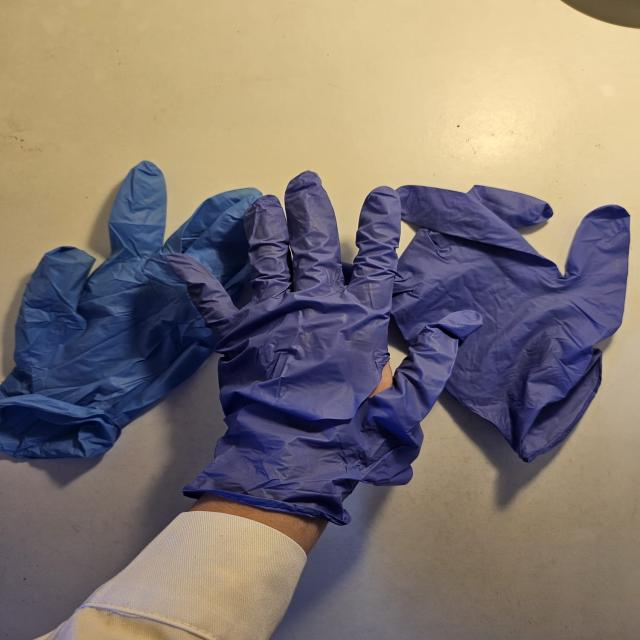gloves_damaged: (164, 168, 485, 507)
